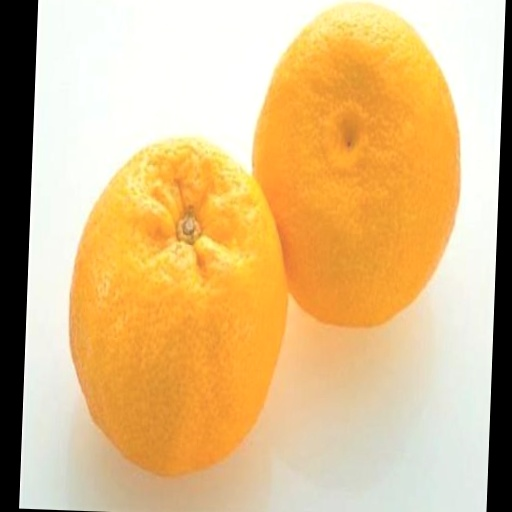fruit: (69, 138, 286, 474), (253, 3, 459, 325)
